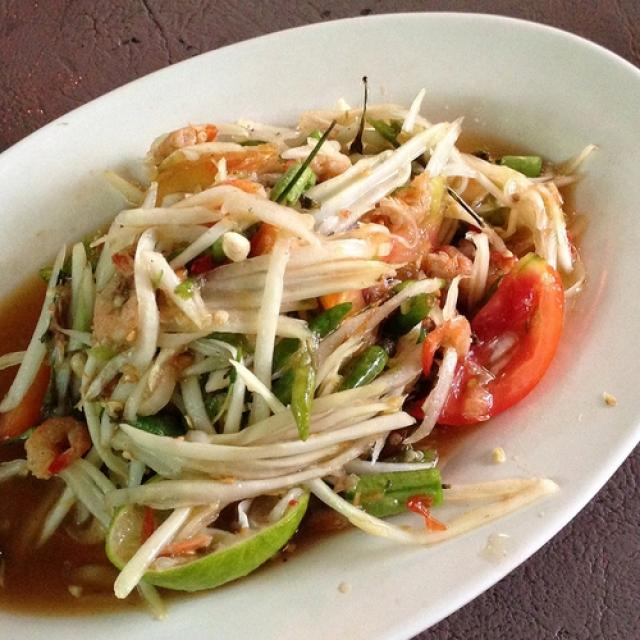蔬菜料理: (12, 18, 595, 628)
